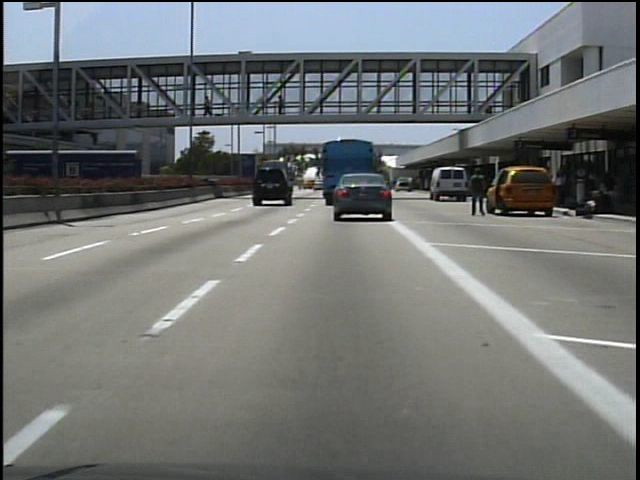person: (466, 162, 490, 221), (201, 92, 217, 120), (274, 93, 289, 121)
